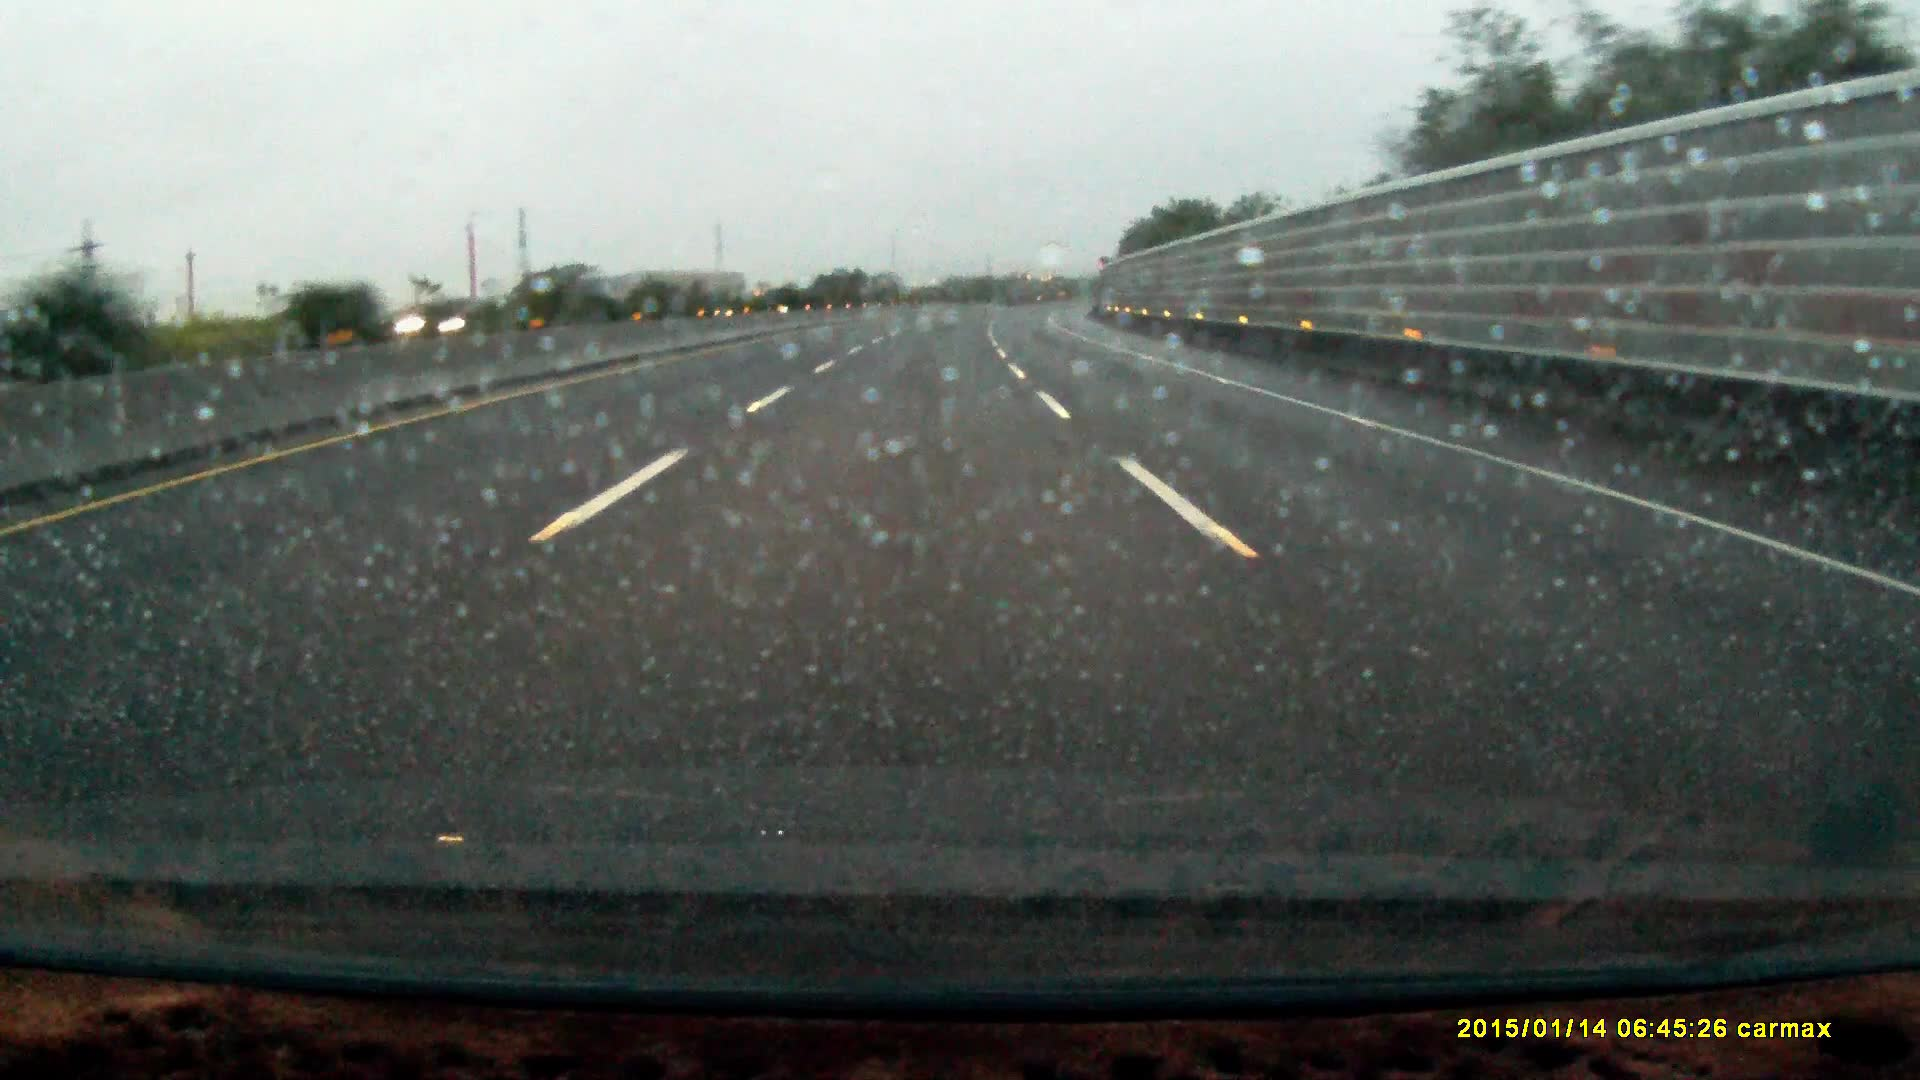vehicle: (386, 299, 516, 342)
